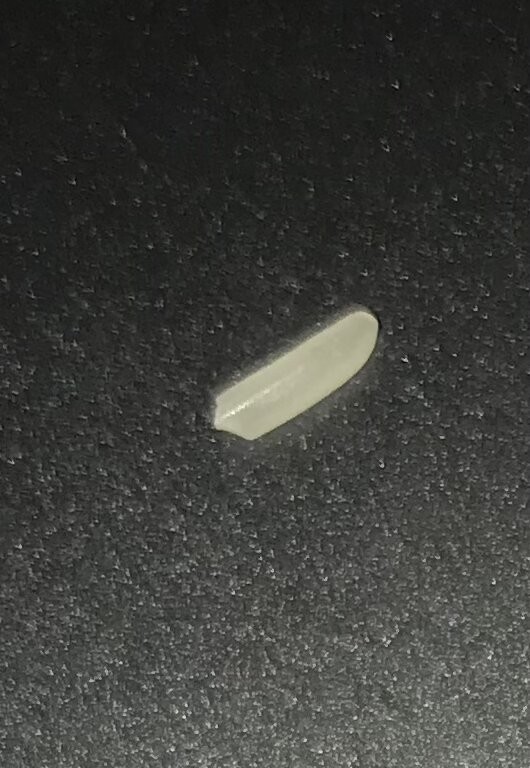Gao Long Lai: (209, 304, 381, 456)
